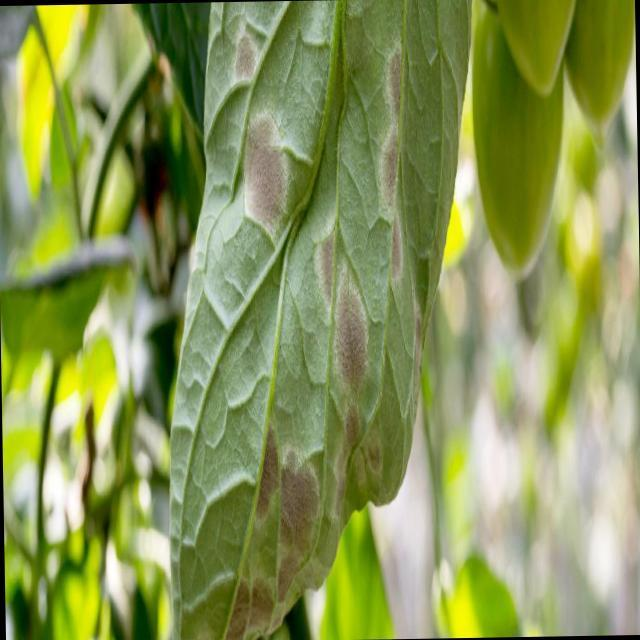Mosaic Virus: (211, 13, 428, 640)
